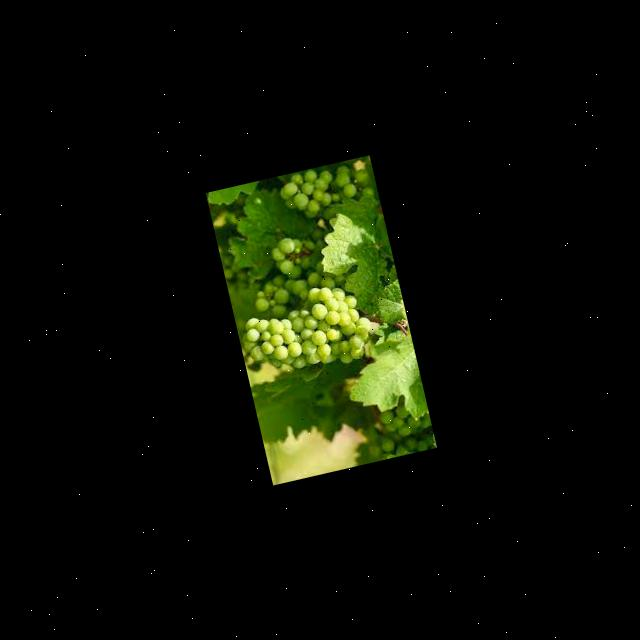grape: (232, 276, 384, 386), (274, 156, 376, 226)
